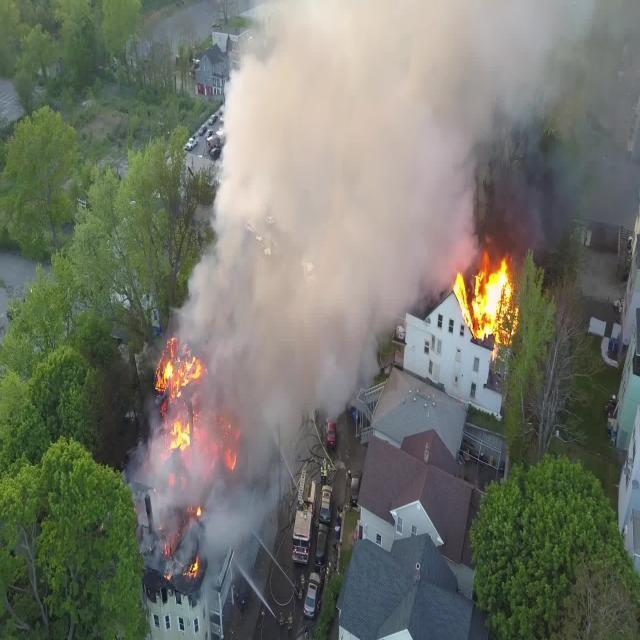Fire: (156, 344, 200, 437), (477, 262, 519, 337)
Smoke: (248, 3, 496, 166), (218, 192, 437, 303), (204, 317, 309, 458)
